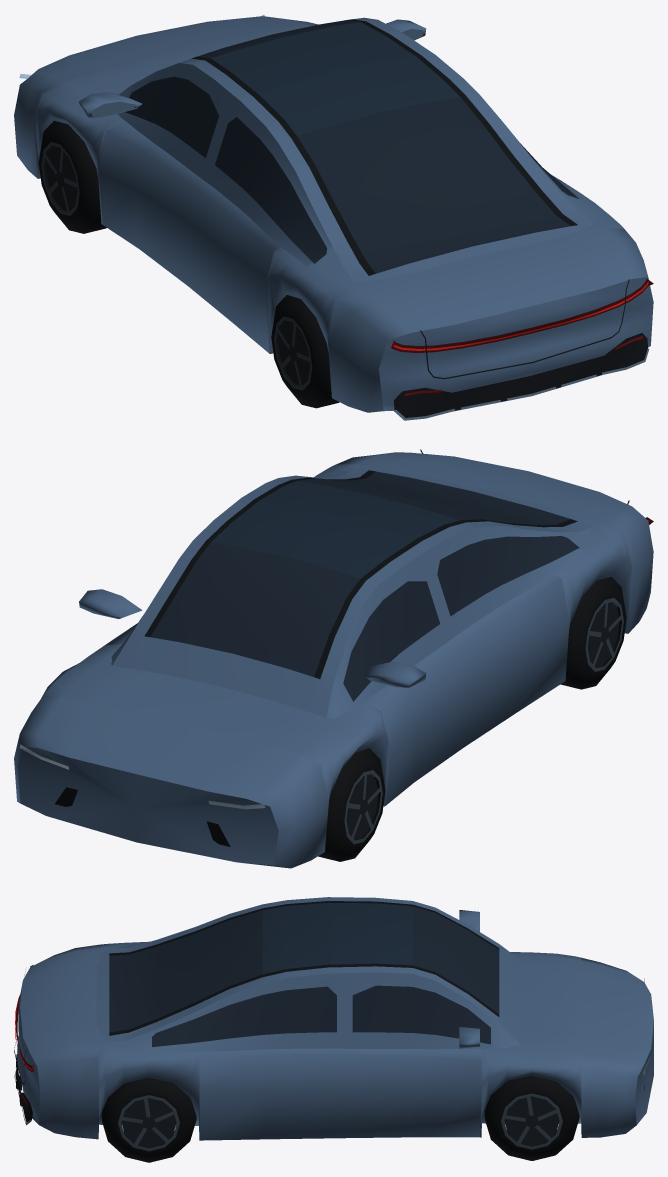
Rendered from cupfight_car.obj.
The picture shows the model from 3 angles, top to bottom: view 1: azimuth 30°, elevation 25°; view 2: azimuth 150°, elevation 25°; view 3: azimuth 270°, elevation 25°; orthographic projection. The views are drawn at different scales.
Visible parts, largest first — view 1: Steel_blue_body, Tapered_rear_glass, Rear_fascia, Panoramic_roof, Left_side_windows, Roof_rails_and_cabin_frame, Left_side_window_frame, Lower_diffuser_and_four_fins, Glazing_border, Front_left_tire, Rear_left_tire, Continuous_smoked_rear_lens (+8 smaller); view 2: Steel_blue_body, Front_windshield, Front_fascia, Roof_rails_and_cabin_frame, Panoramic_roof, Left_side_windows, Left_side_window_frame, Tapered_rear_glass, Rear_left_tire, Front_left_tire, Glazing_border, Front_left_wheel_center (+5 smaller); view 3: Steel_blue_body, Right_side_windows, Tapered_rear_glass, Right_side_window_frame, Panoramic_roof, Roof_rails_and_cabin_frame, Front_windshield, Front_right_tire, Rear_right_tire, Glazing_border, Front_right_wheel_center, Rear_right_wheel_center (+5 smaller).
Part boxes in pixels (<box>): Steel_blue_body: <box>14,16,648,412</box>; Tapered_rear_glass: <box>297,96,570,273</box>; Rear_fascia: <box>379,277,653,411</box>; Panoramic_roof: <box>211,22,459,136</box>; Left_side_windows: <box>124,76,327,263</box>; Roof_rails_and_cabin_frame: <box>179,17,595,282</box>; Left_side_window_frame: <box>117,63,353,282</box>; Lower_diffuser_and_four_fins: <box>393,333,647,417</box>; Glazing_border: <box>191,19,577,275</box>; Front_left_tire: <box>38,120,106,233</box>; Rear_left_tire: <box>271,295,339,408</box>; Continuous_smoked_rear_lens: <box>391,279,653,352</box>; Steel_blue_body: <box>14,452,653,868</box>; Front_windshield: <box>150,542,360,676</box>; Front_fascia: <box>18,746,278,865</box>; Roof_rails_and_cabin_frame: <box>113,467,594,717</box>; Panoramic_roof: <box>211,480,459,578</box>; Left_side_windows: <box>343,536,579,701</box>; Left_side_window_frame: <box>326,526,596,717</box>; Tapered_rear_glass: <box>298,471,570,524</box>; Rear_left_tire: <box>560,577,626,689</box>; Front_left_tire: <box>318,748,385,861</box>; Glazing_border: <box>144,470,577,678</box>; Front_left_wheel_center: <box>346,774,378,839</box>; Steel_blue_body: <box>20,941,653,1140</box>; Right_side_windows: <box>152,985,490,1047</box>; Tapered_rear_glass: <box>109,910,262,1032</box>; Right_side_window_frame: <box>107,972,519,1052</box>; Panoramic_roof: <box>262,902,412,974</box>; Roof_rails_and_cabin_frame: <box>96,897,520,1043</box>; Front_windshield: <box>413,906,499,1013</box>; Front_right_tire: <box>484,1076,579,1160</box>; Rear_right_tire: <box>101,1077,196,1162</box>; Glazing_border: <box>109,901,499,1035</box>; Front_right_wheel_center: <box>504,1096,559,1145</box>; Rear_right_wheel_center: <box>121,1098,176,1147</box>.
Bounding box in the file's own units: 2.23 × 1.36 × 4.51.
